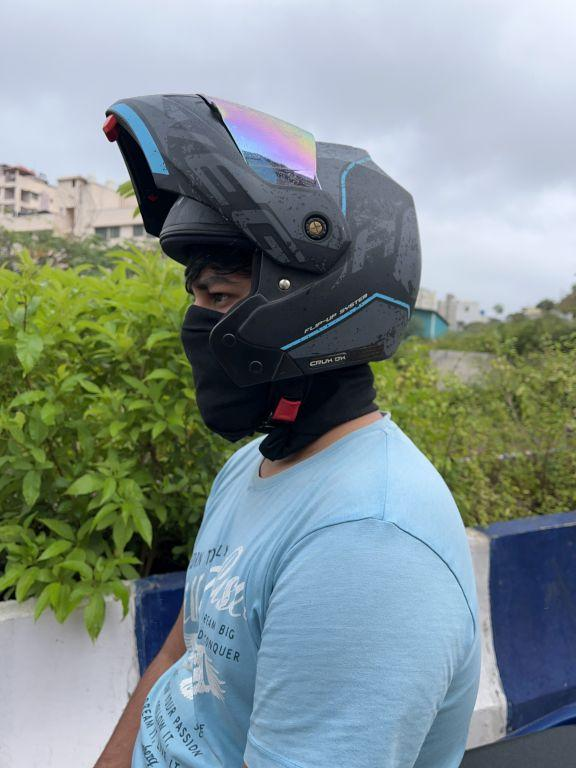helmet: (82, 74, 436, 422)
